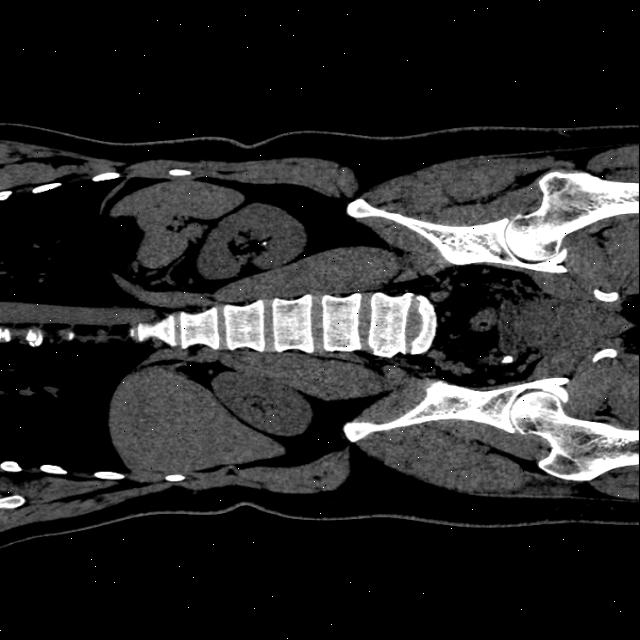kidneystone: (254, 236, 270, 250)
